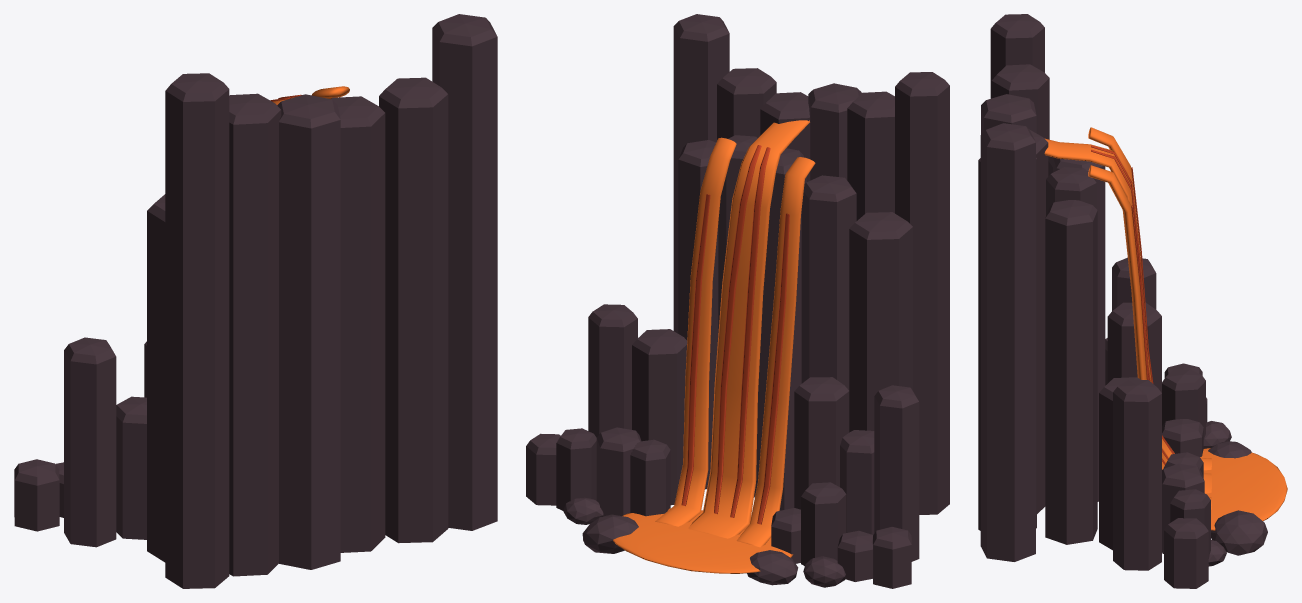
File: LavaFall.obj
3 renders of one model, left to right at view 1: azimuth 30°, elevation 25°; view 2: azimuth 150°, elevation 25°; view 3: azimuth 270°, elevation 25°, orthographic. The views are drawn at different scales.
Parts seen in each view (by area): view 1: Rock; view 2: Rock, Lava, Crust; view 3: Rock, Lava, Crust.
Part boxes in pixels (bbox=[...]): Rock: bbox=[14, 14, 497, 588]; Rock: bbox=[526, 14, 949, 588]; Lava: bbox=[613, 120, 815, 573]; Crust: bbox=[681, 145, 789, 524]; Rock: bbox=[978, 14, 1267, 588]; Lava: bbox=[1044, 127, 1287, 530]; Crust: bbox=[1091, 145, 1174, 464].
Bounding box in the file's own units: 48.08 × 53.15 × 34.45.
